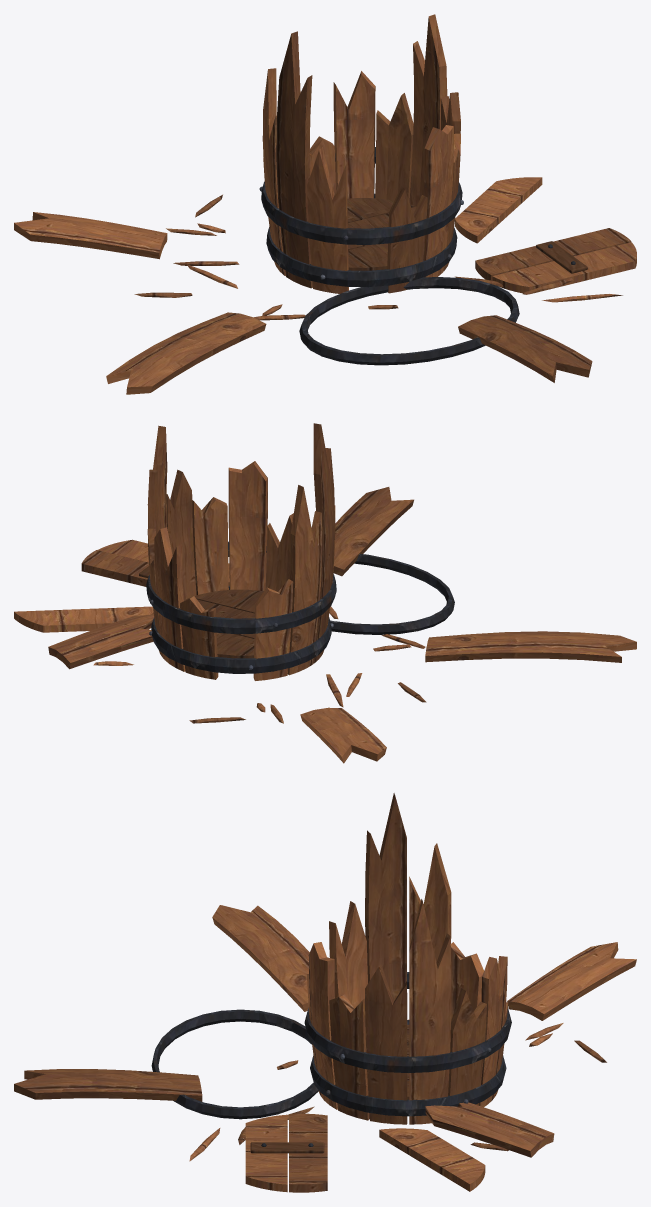
The model's file is barrel_smashed.glb.
3 views of the same model, one above another, from view 1: azimuth 30°, elevation 25°; view 2: azimuth 150°, elevation 25°; view 3: azimuth 270°, elevation 25° (orthographic). The views are drawn at different scales.
Visible parts, largest first — view 1: model; view 2: model; view 3: model.
Boxes of the visible parts, <box> form: model: <box>14,14,636,394</box>; model: <box>14,423,636,763</box>; model: <box>14,793,636,1192</box>.
Bounding box in the file's own units: 1.91 × 0.84 × 1.86.
6 materials, 6 textured.
